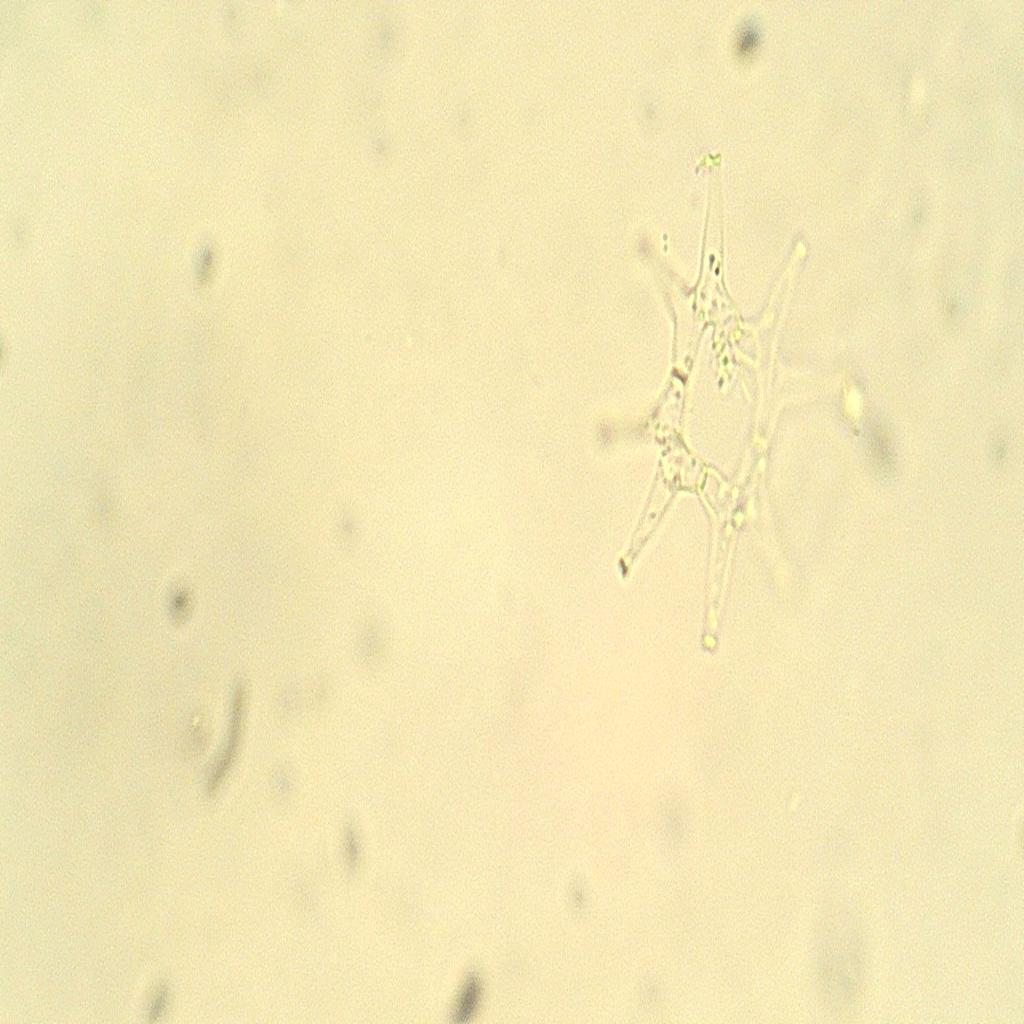Pediastrum_1F0: (558, 140, 872, 680)
